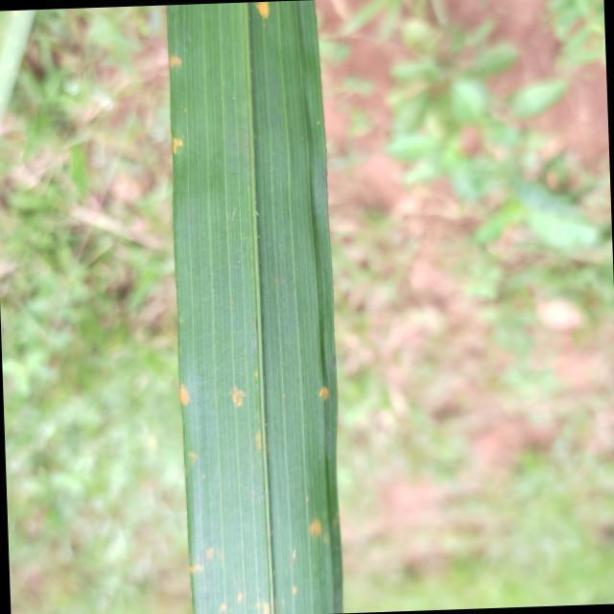Kalium: (163, 0, 347, 614)
